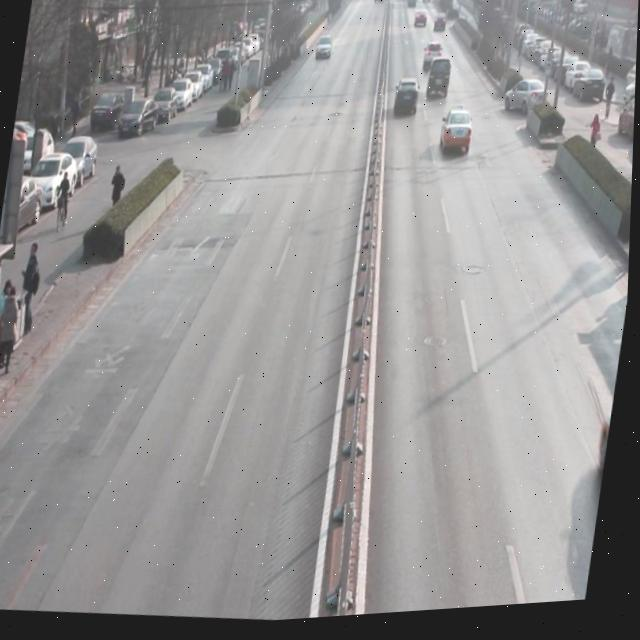car: (436, 111, 480, 170), (391, 83, 425, 124), (422, 45, 444, 76), (314, 34, 334, 66)
truck: (427, 57, 454, 108)
